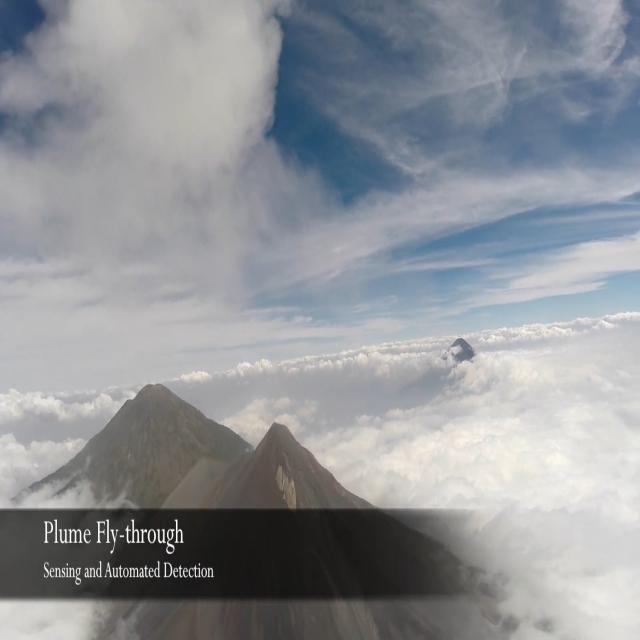Summit: (238, 418, 316, 458)
